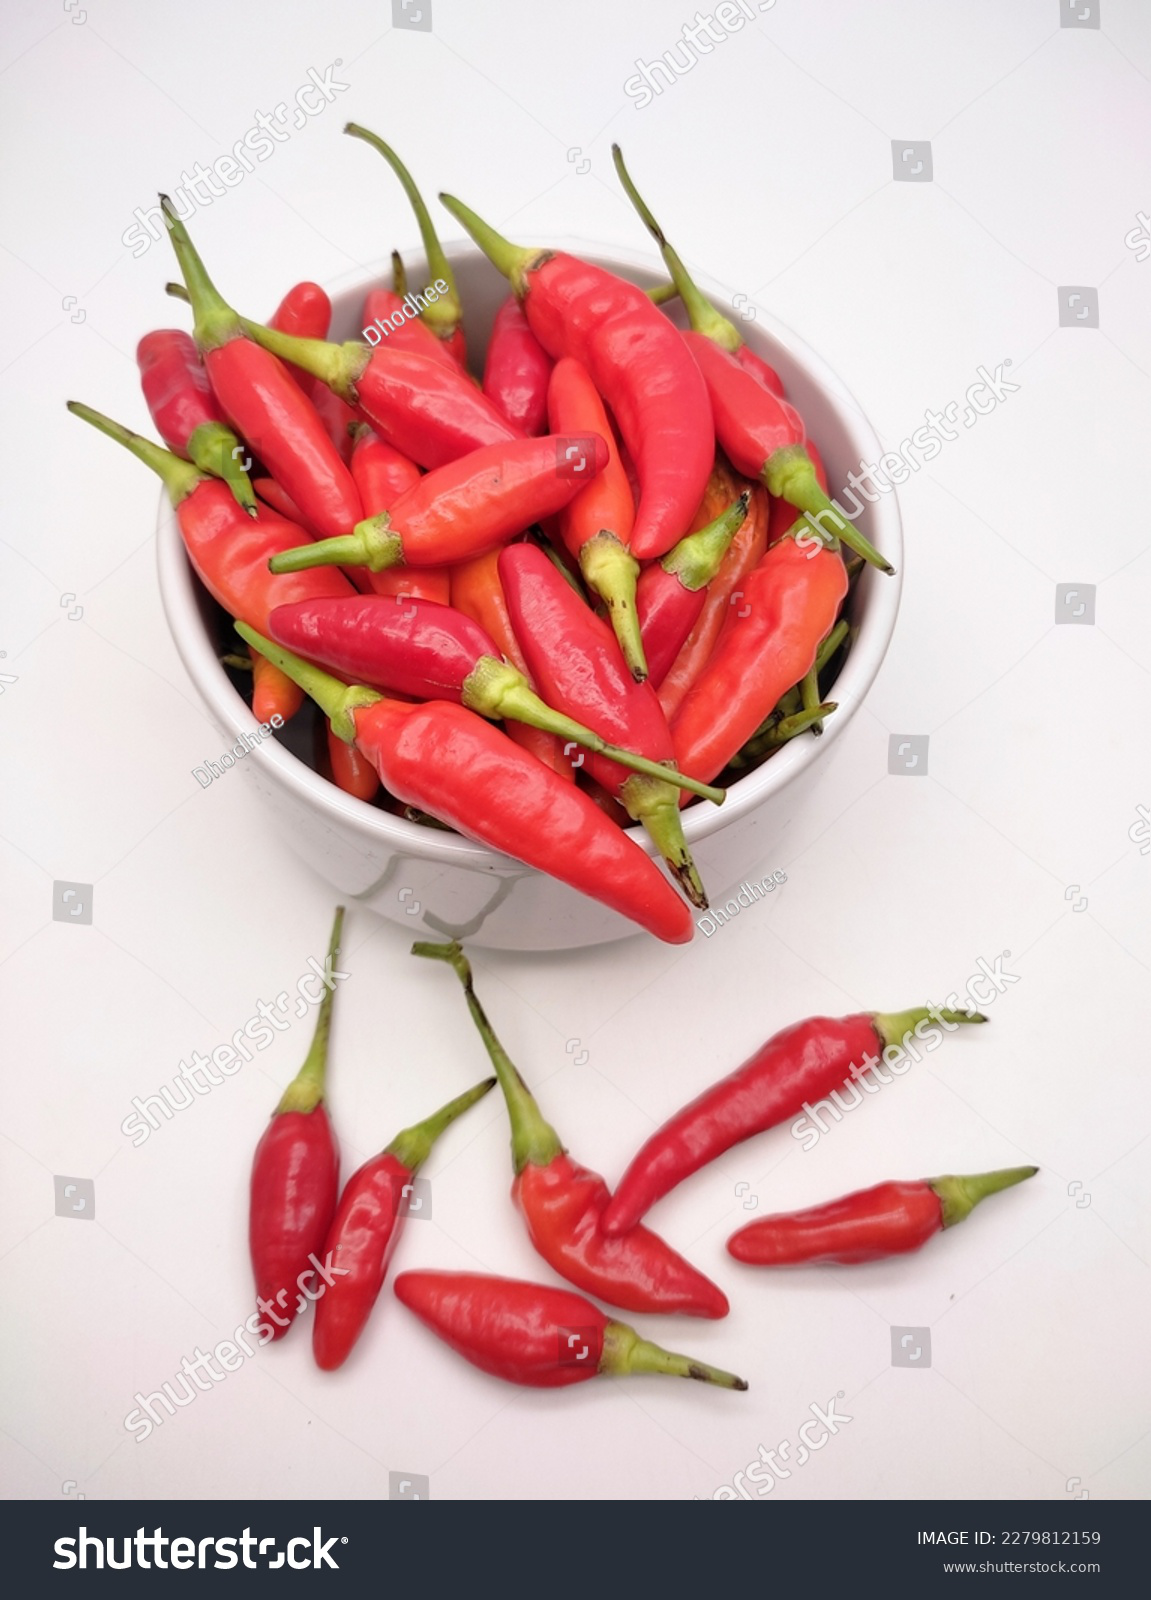Cabai: (117, 120, 909, 944)
